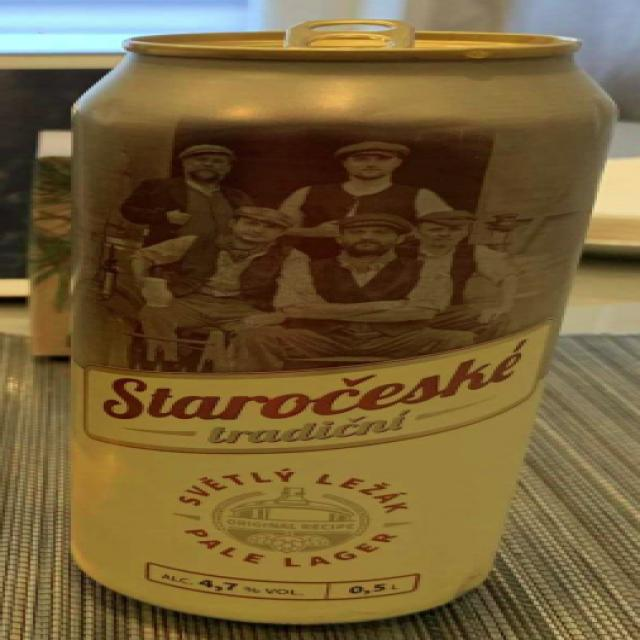Staroceske Tradicni: (2, 1, 640, 640)
